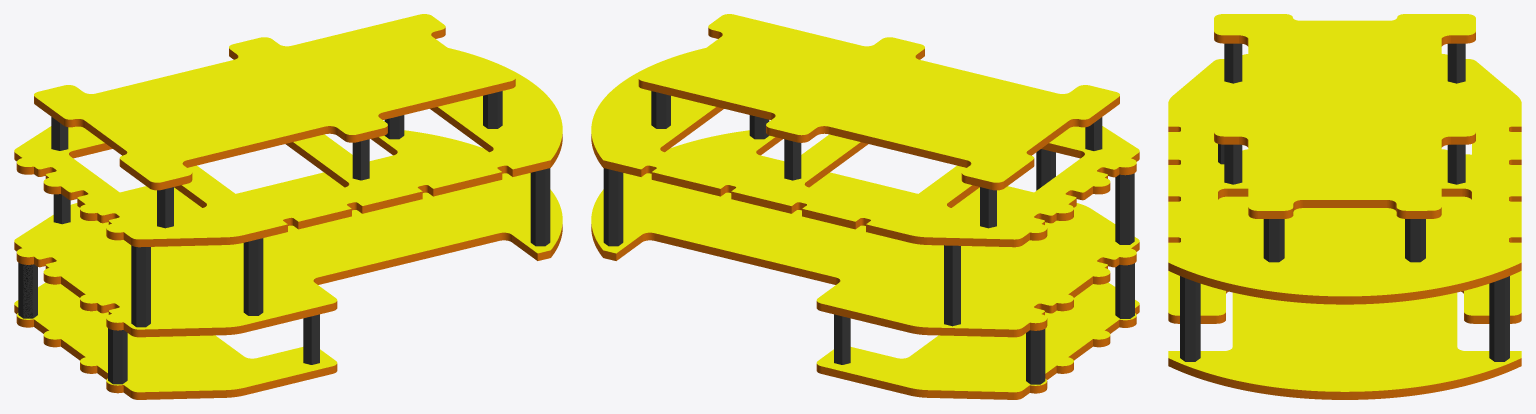
File: sorcerer.dae
3 renders of one model, left to right at view 1: azimuth 30°, elevation 25°; view 2: azimuth 150°, elevation 25°; view 3: azimuth 270°, elevation 25°, orthographic. The views are drawn at different scales.
Parts seen in each view (by area): view 1: instance_0 (×23); view 2: instance_0 (×22); view 3: instance_0 (×17).
Boxes of the visible parts, <box> form: instance_0 (×23): <box>14,14,562,399</box>; instance_0 (×22): <box>591,14,1139,399</box>; instance_0 (×17): <box>1168,14,1521,399</box>.
Size of the model in its own units: 7.04 by 4.33 by 3.04.
